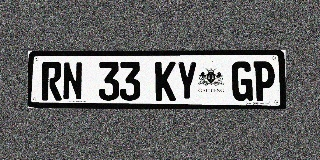3: (99, 62, 119, 101), (120, 62, 140, 101)
G: (232, 61, 253, 101)
K: (155, 62, 176, 101)
N: (62, 62, 83, 100)
P: (253, 61, 275, 101)
R: (42, 62, 62, 100)
Y: (177, 61, 197, 101)
